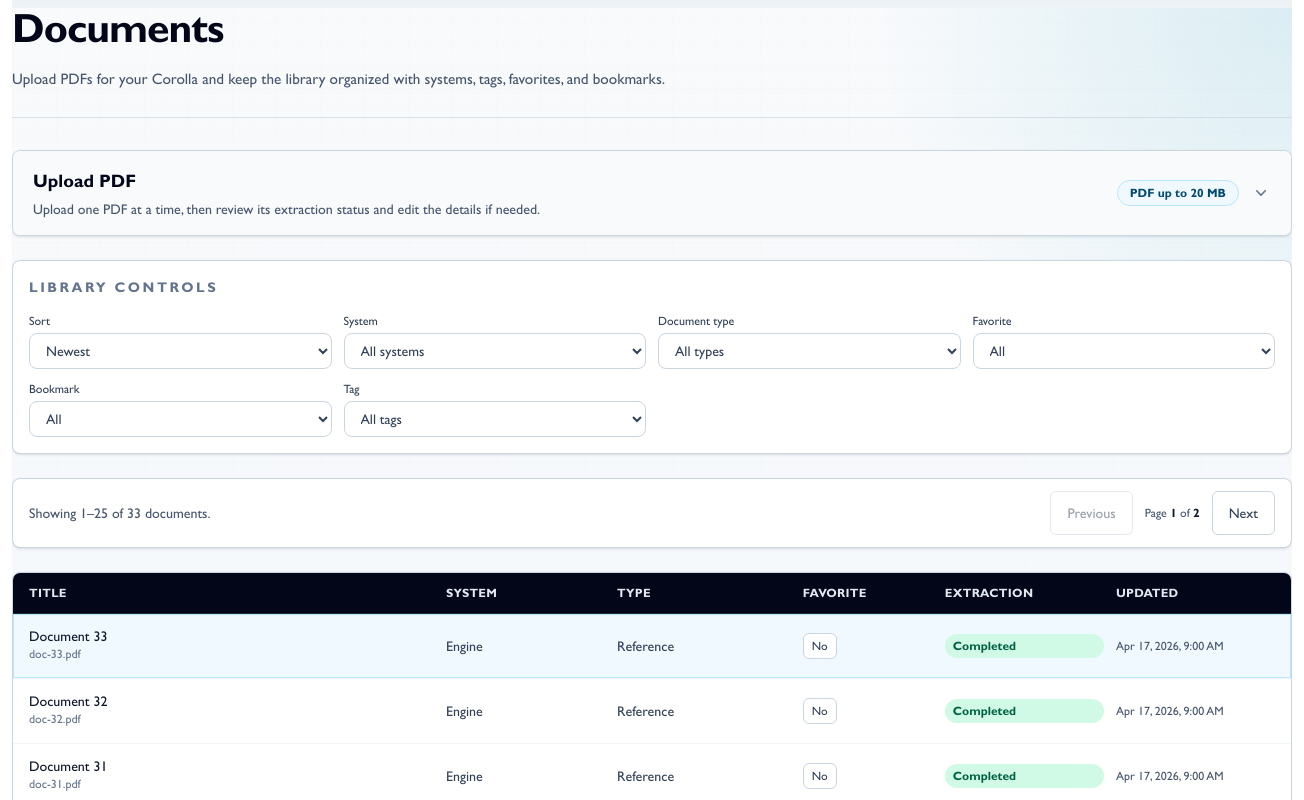
Test: the documents counter uses the one range format, page by page
The image size is (1304, 800).
Expected: the text "Showing 1–25 of 33 documents." is shown, 29,503 -> 210,523
Click the button "Next".
click(1243, 513)  # box 1212,491 -> 1275,535
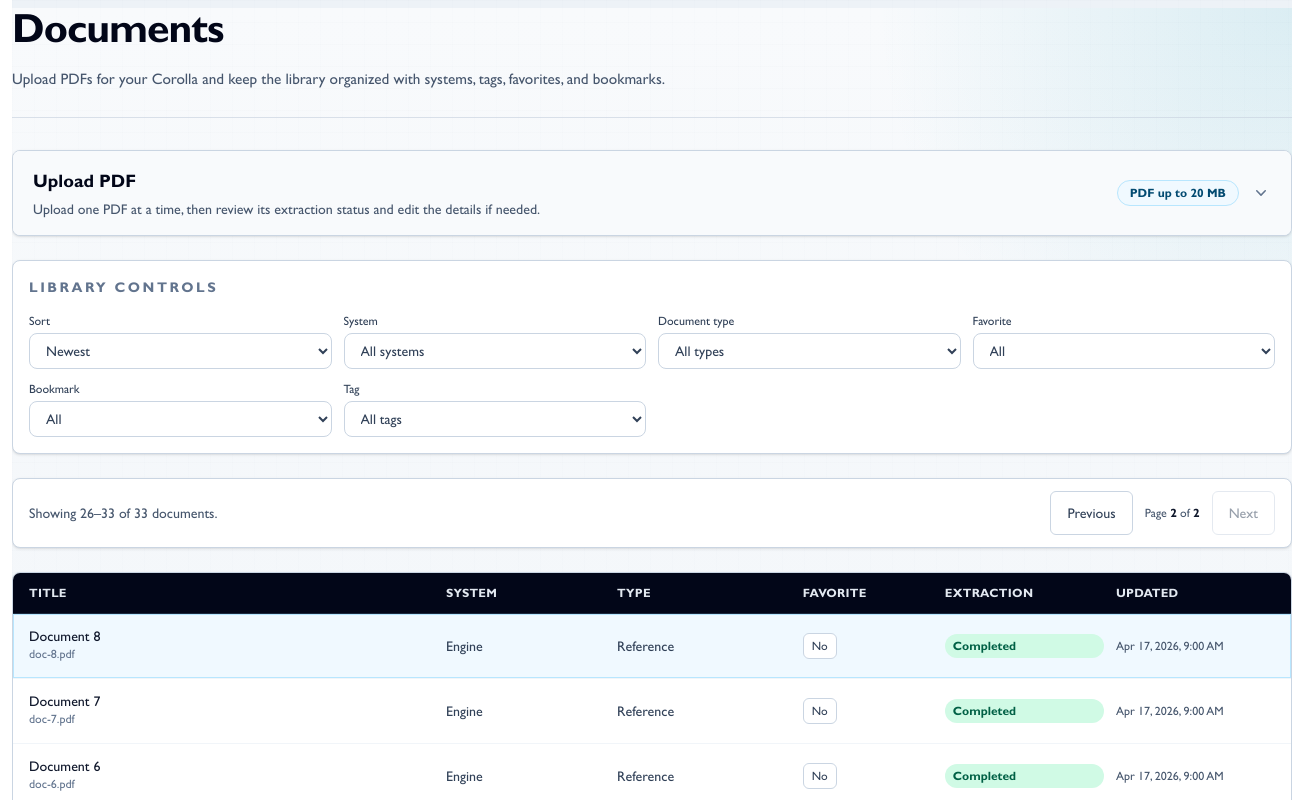
Result: the text "Showing 26–33 of 33 documents." is shown at 29,503 -> 218,523
